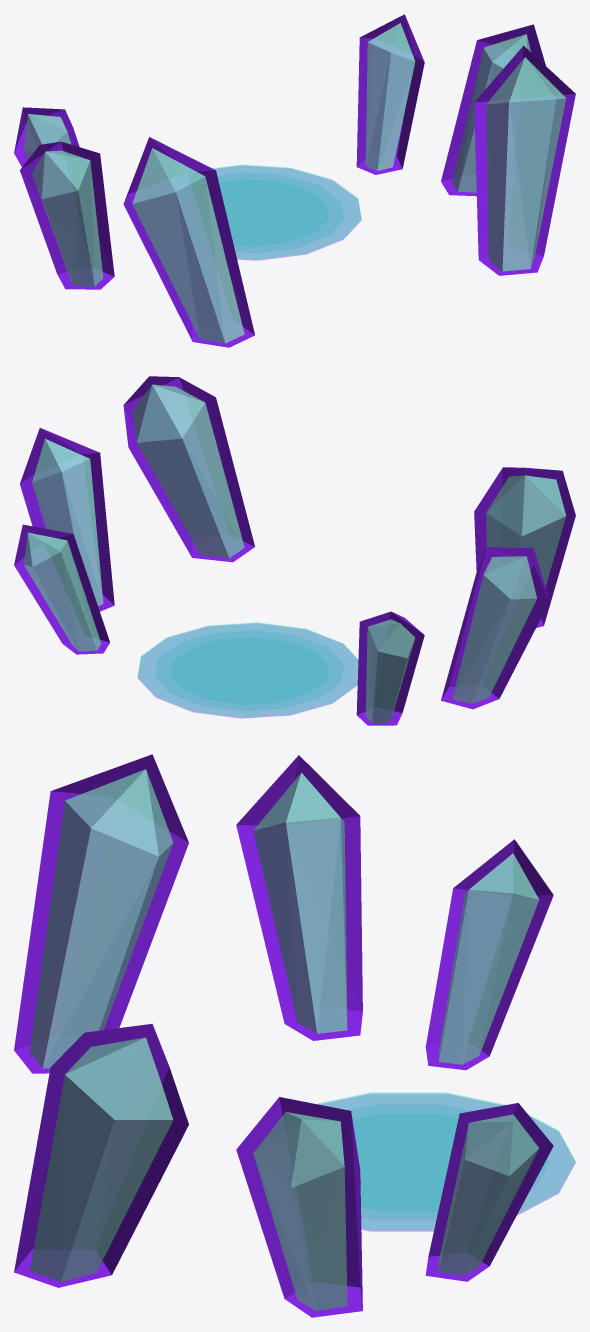
File: tornado.gltf
3 views of the same model, one above another, from view 1: azimuth 30°, elevation 25°; view 2: azimuth 150°, elevation 25°; view 3: azimuth 270°, elevation 25° (orthographic). The views are drawn at different scales.
Size of the model in its own units: 674 by 231 by 430.
Materials: 2 (2 with a texture image).
